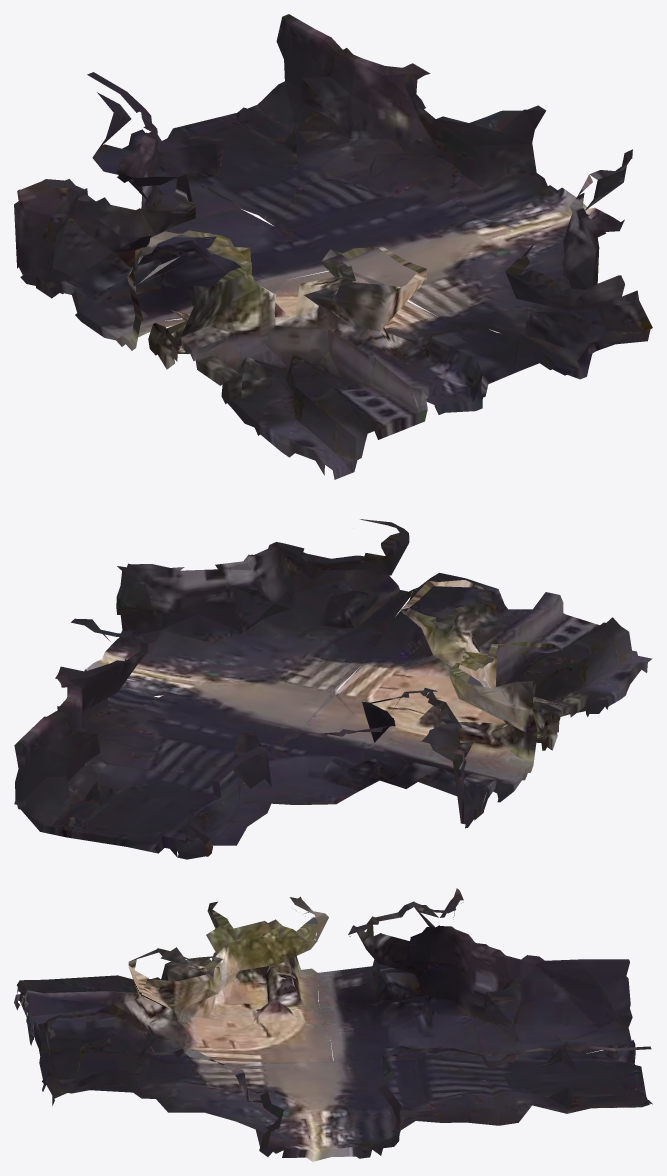
The picture shows the model from 3 angles, top to bottom: view 1: azimuth 30°, elevation 25°; view 2: azimuth 150°, elevation 25°; view 3: azimuth 270°, elevation 25°; orthographic projection. The views are drawn at different scales.
Parts seen in each view (by area): view 1: Mesh_0; view 2: Mesh_0; view 3: Mesh_0.
Part boxes in pixels (x1,y1,x2,y2): Mesh_0: (14,14,652,479); Mesh_0: (14,519,652,859); Mesh_0: (14,888,652,1161).
Bounding box in the file's own units: 31.24 × 7.11 × 40.97.
1 material, 1 textured.
